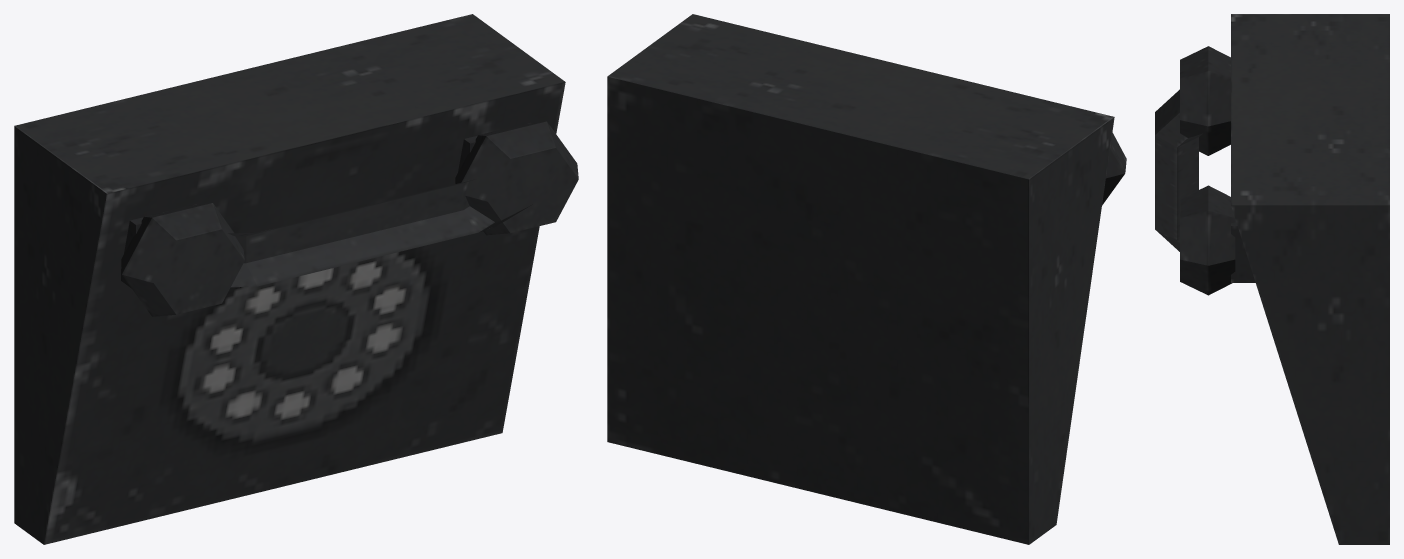
File: pz_phone_rotary_black.obj
The picture shows the model from 3 angles, left to right: view 1: azimuth 30°, elevation 25°; view 2: azimuth 150°, elevation 25°; view 3: azimuth 270°, elevation 25°; orthographic projection. The views are drawn at different scales.
Parts seen in each view (by area): view 1: base, nearly_straight_receiver_grip, receiver_cup_0, receiver_cup_1; view 2: base, receiver_cup_0; view 3: base, receiver_cup_1, receiver_cup_0, nearly_straight_receiver_grip, cradle_1.
Part boxes in pixels (x1,y1,x2,y2): base: [14, 14, 565, 544]; nearly_straight_receiver_grip: [228, 179, 532, 287]; receiver_cup_0: [121, 203, 244, 316]; receiver_cup_1: [455, 121, 578, 235]; base: [607, 14, 1114, 544]; receiver_cup_0: [1102, 132, 1126, 205]; base: [1231, 14, 1389, 544]; receiver_cup_1: [1180, 185, 1235, 295]; receiver_cup_0: [1180, 46, 1230, 155]; nearly_straight_receiver_grip: [1155, 89, 1202, 251]; cradle_1: [1231, 219, 1255, 282].
Bounding box in the file's own units: 0.302 × 0.25 × 0.1567.
1 material, 1 textured.
